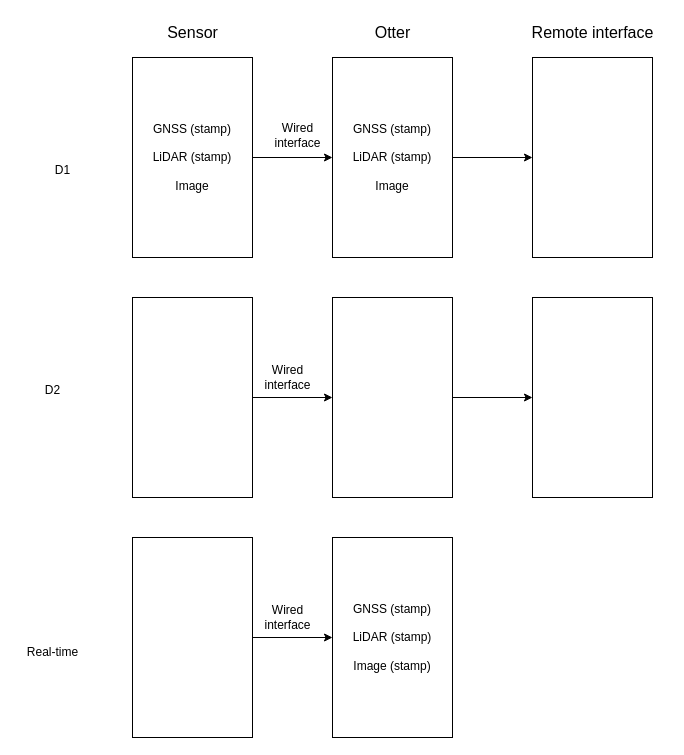
Image size: 684x755. Some labels were removed from this diagram. The shapes that lost their labels are listed below. From the top down, each one's box as (x1, y1, x2, y2) in pixels, then its label:
(132, 296, 252, 498): GNSS (stamp) LiDAR(stamp)
(132, 536, 252, 738): GNSS LiDAR Image
